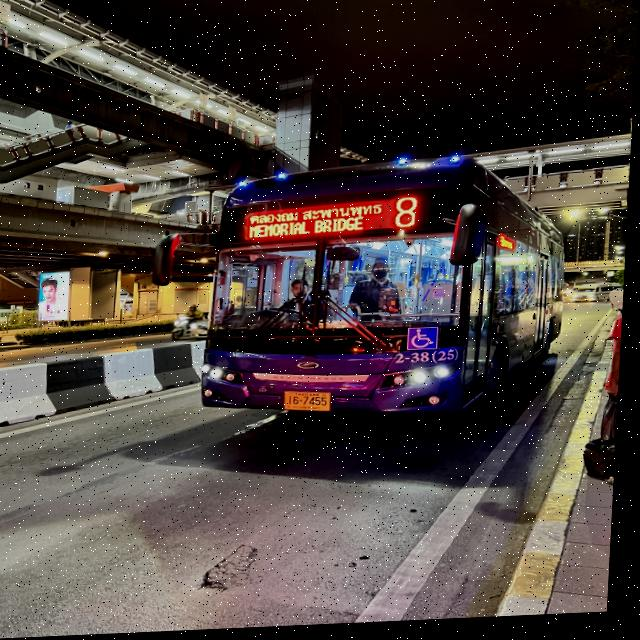Bus-Line-Number: (389, 194, 427, 237)
Destination-Sign-Normal: (247, 205, 391, 246)
TSB-Bus: (201, 155, 574, 432)
